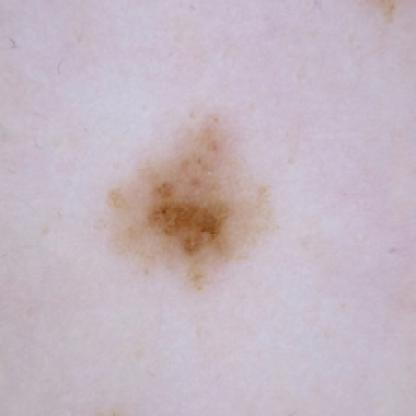benign: (122, 139, 254, 273)
